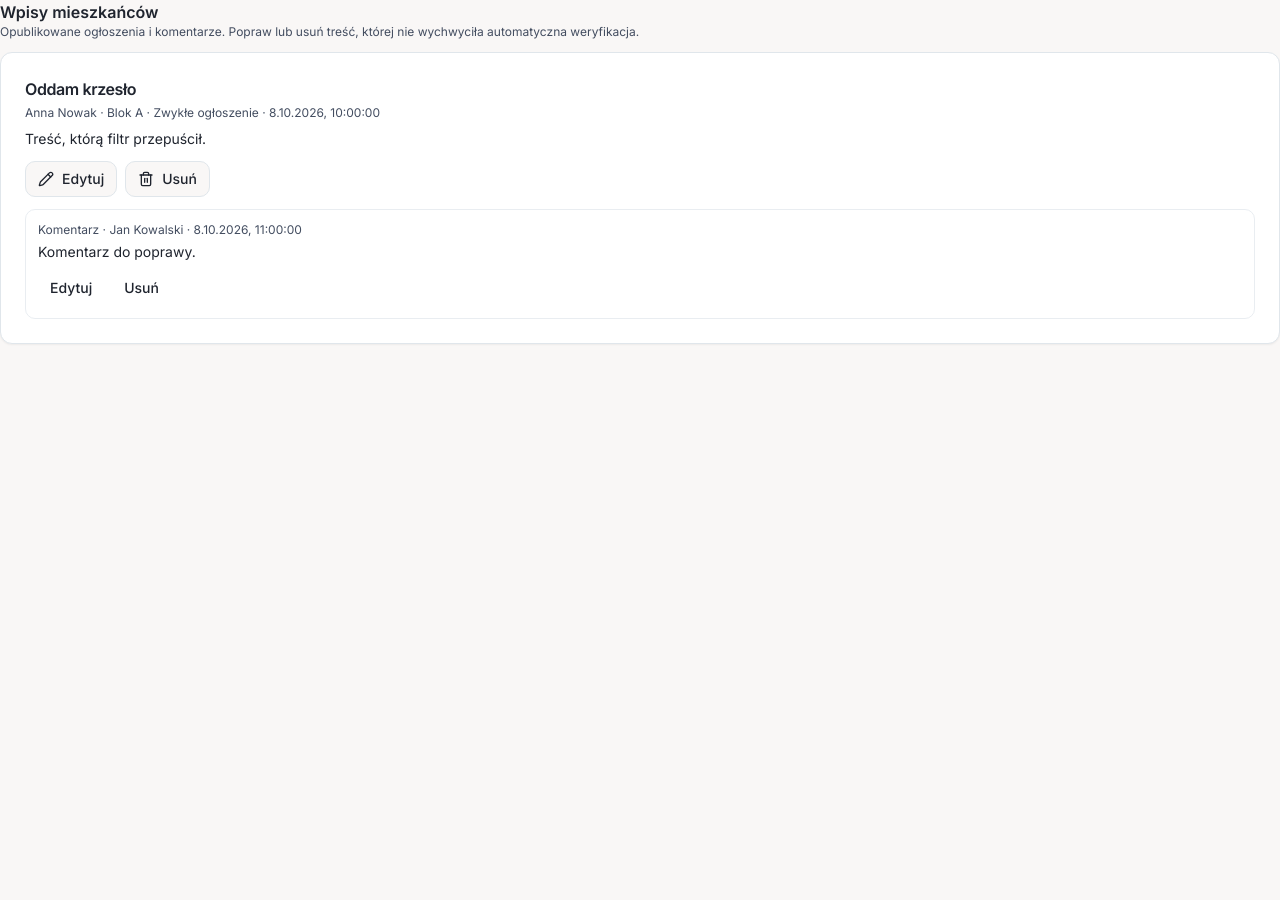
Test case: CommunityResidentPostsSection › lets an administrator edit and delete a published resident post and its comment
Expected: the text "Oddam krzesło" is shown, x1=25 y1=79 x2=136 y2=99
Expected: the text "Komentarz do poprawy." is shown, x1=38 y1=243 x2=196 y2=260
Click the 1st button "Edytuj": (71, 179) x1=25 y1=161 x2=117 y2=197
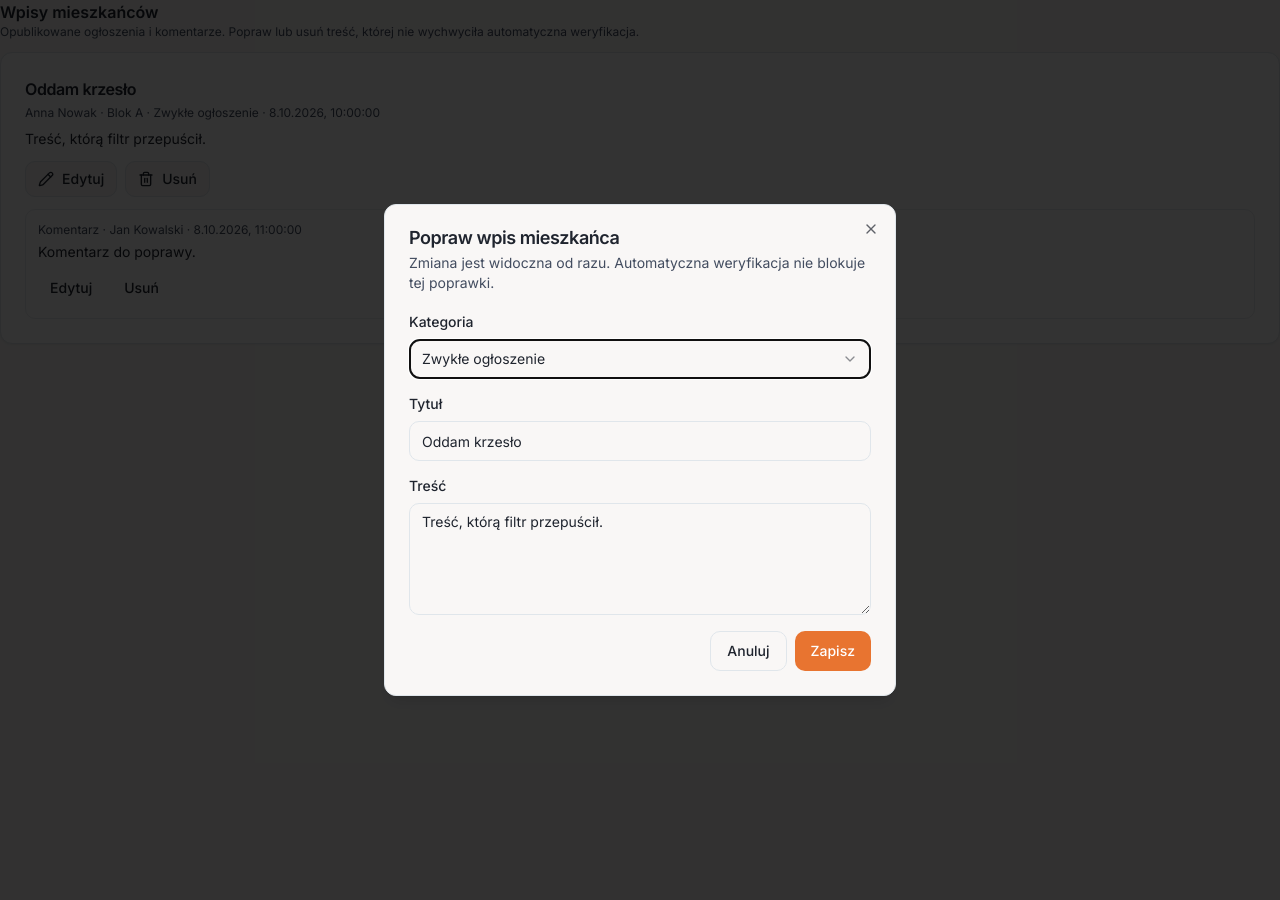
Expected: the heading "Popraw wpis mieszkańca" is shown, x1=409 y1=227 x2=619 y2=248
Expected: the field labelled "Tytuł" holds "Oddam krzesło", x1=409 y1=421 x2=871 y2=461
Expected: the text box labelled "Treść" holds "Treść, którą filtr przepuścił.", x1=409 y1=503 x2=871 y2=615
